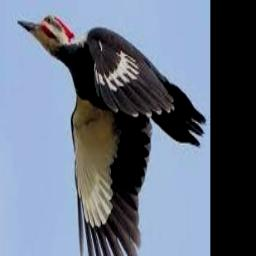Woodpecker: (17, 14, 206, 256)
